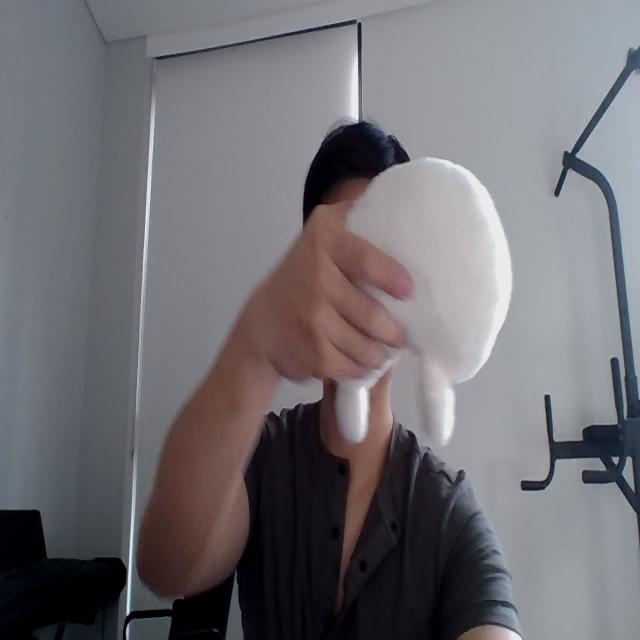seal_bb: (329, 157, 511, 448)
